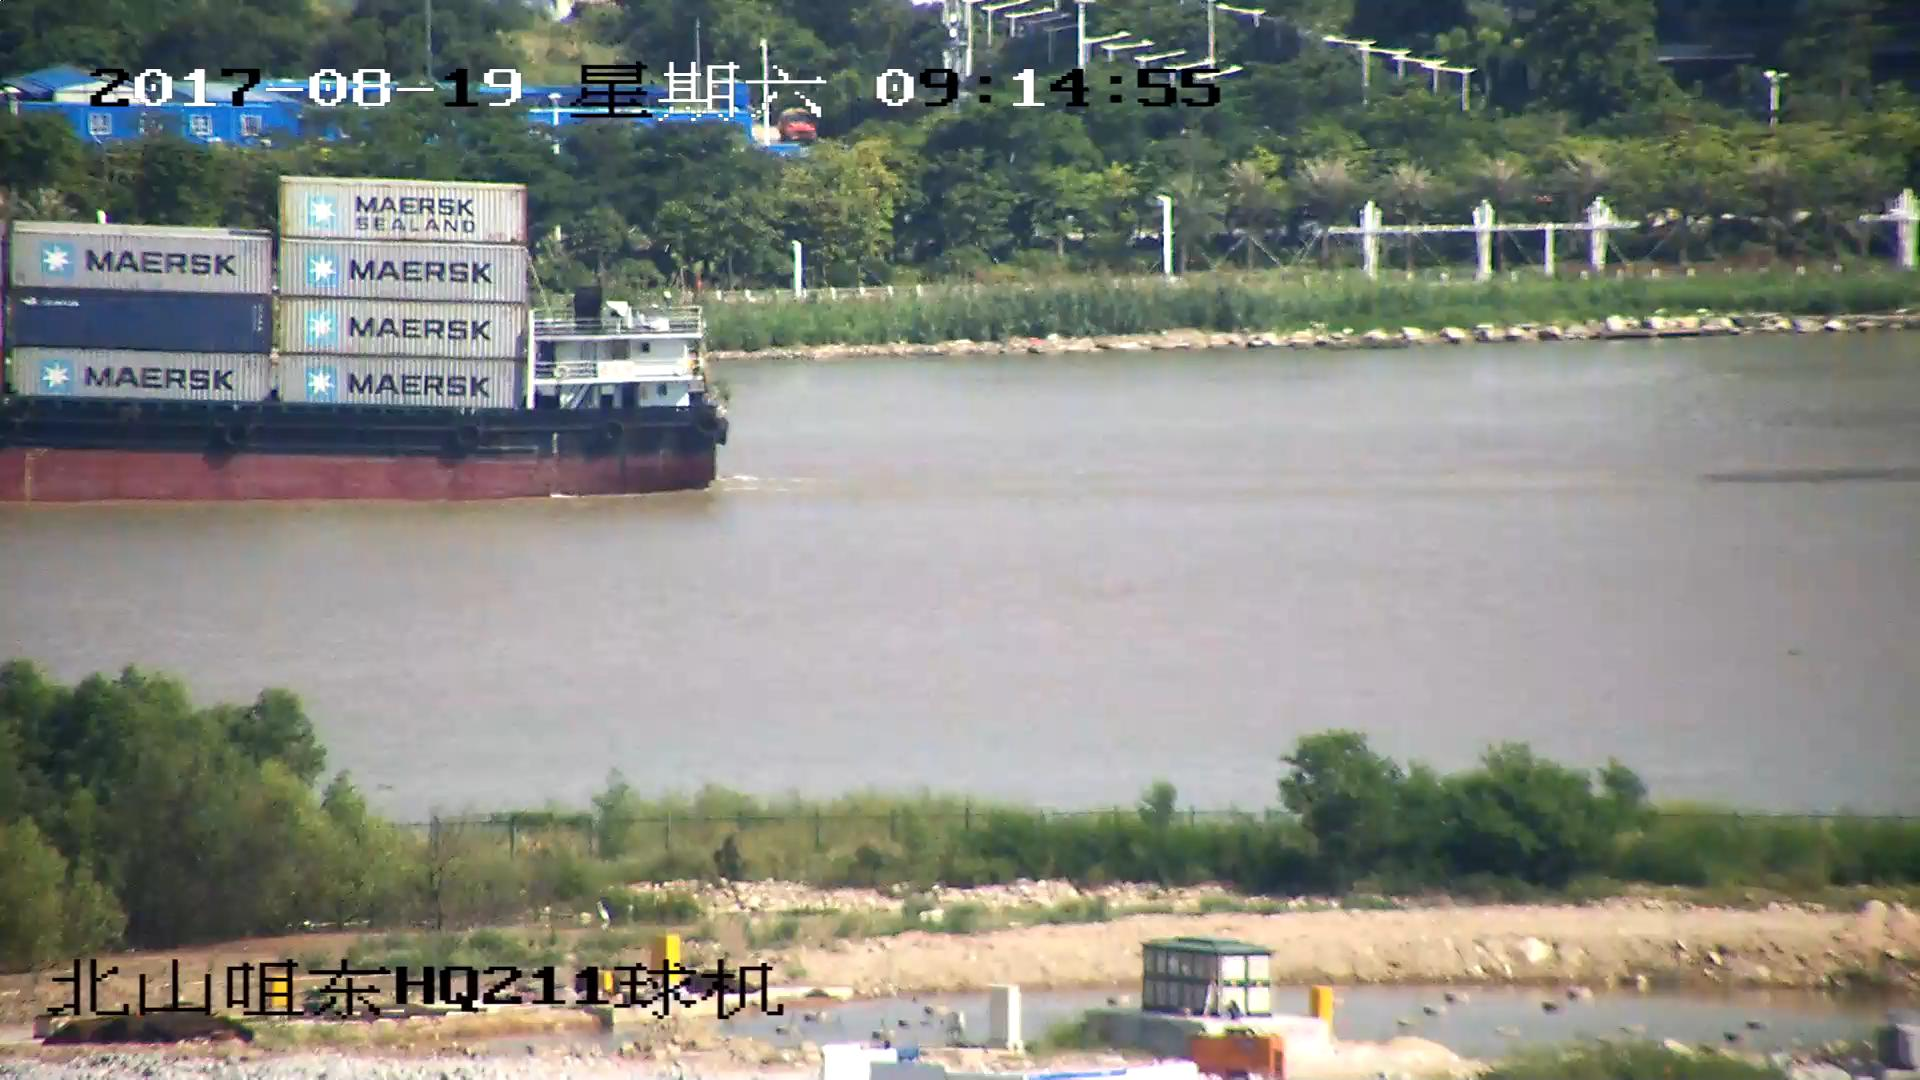container ship: (1, 176, 737, 503)
